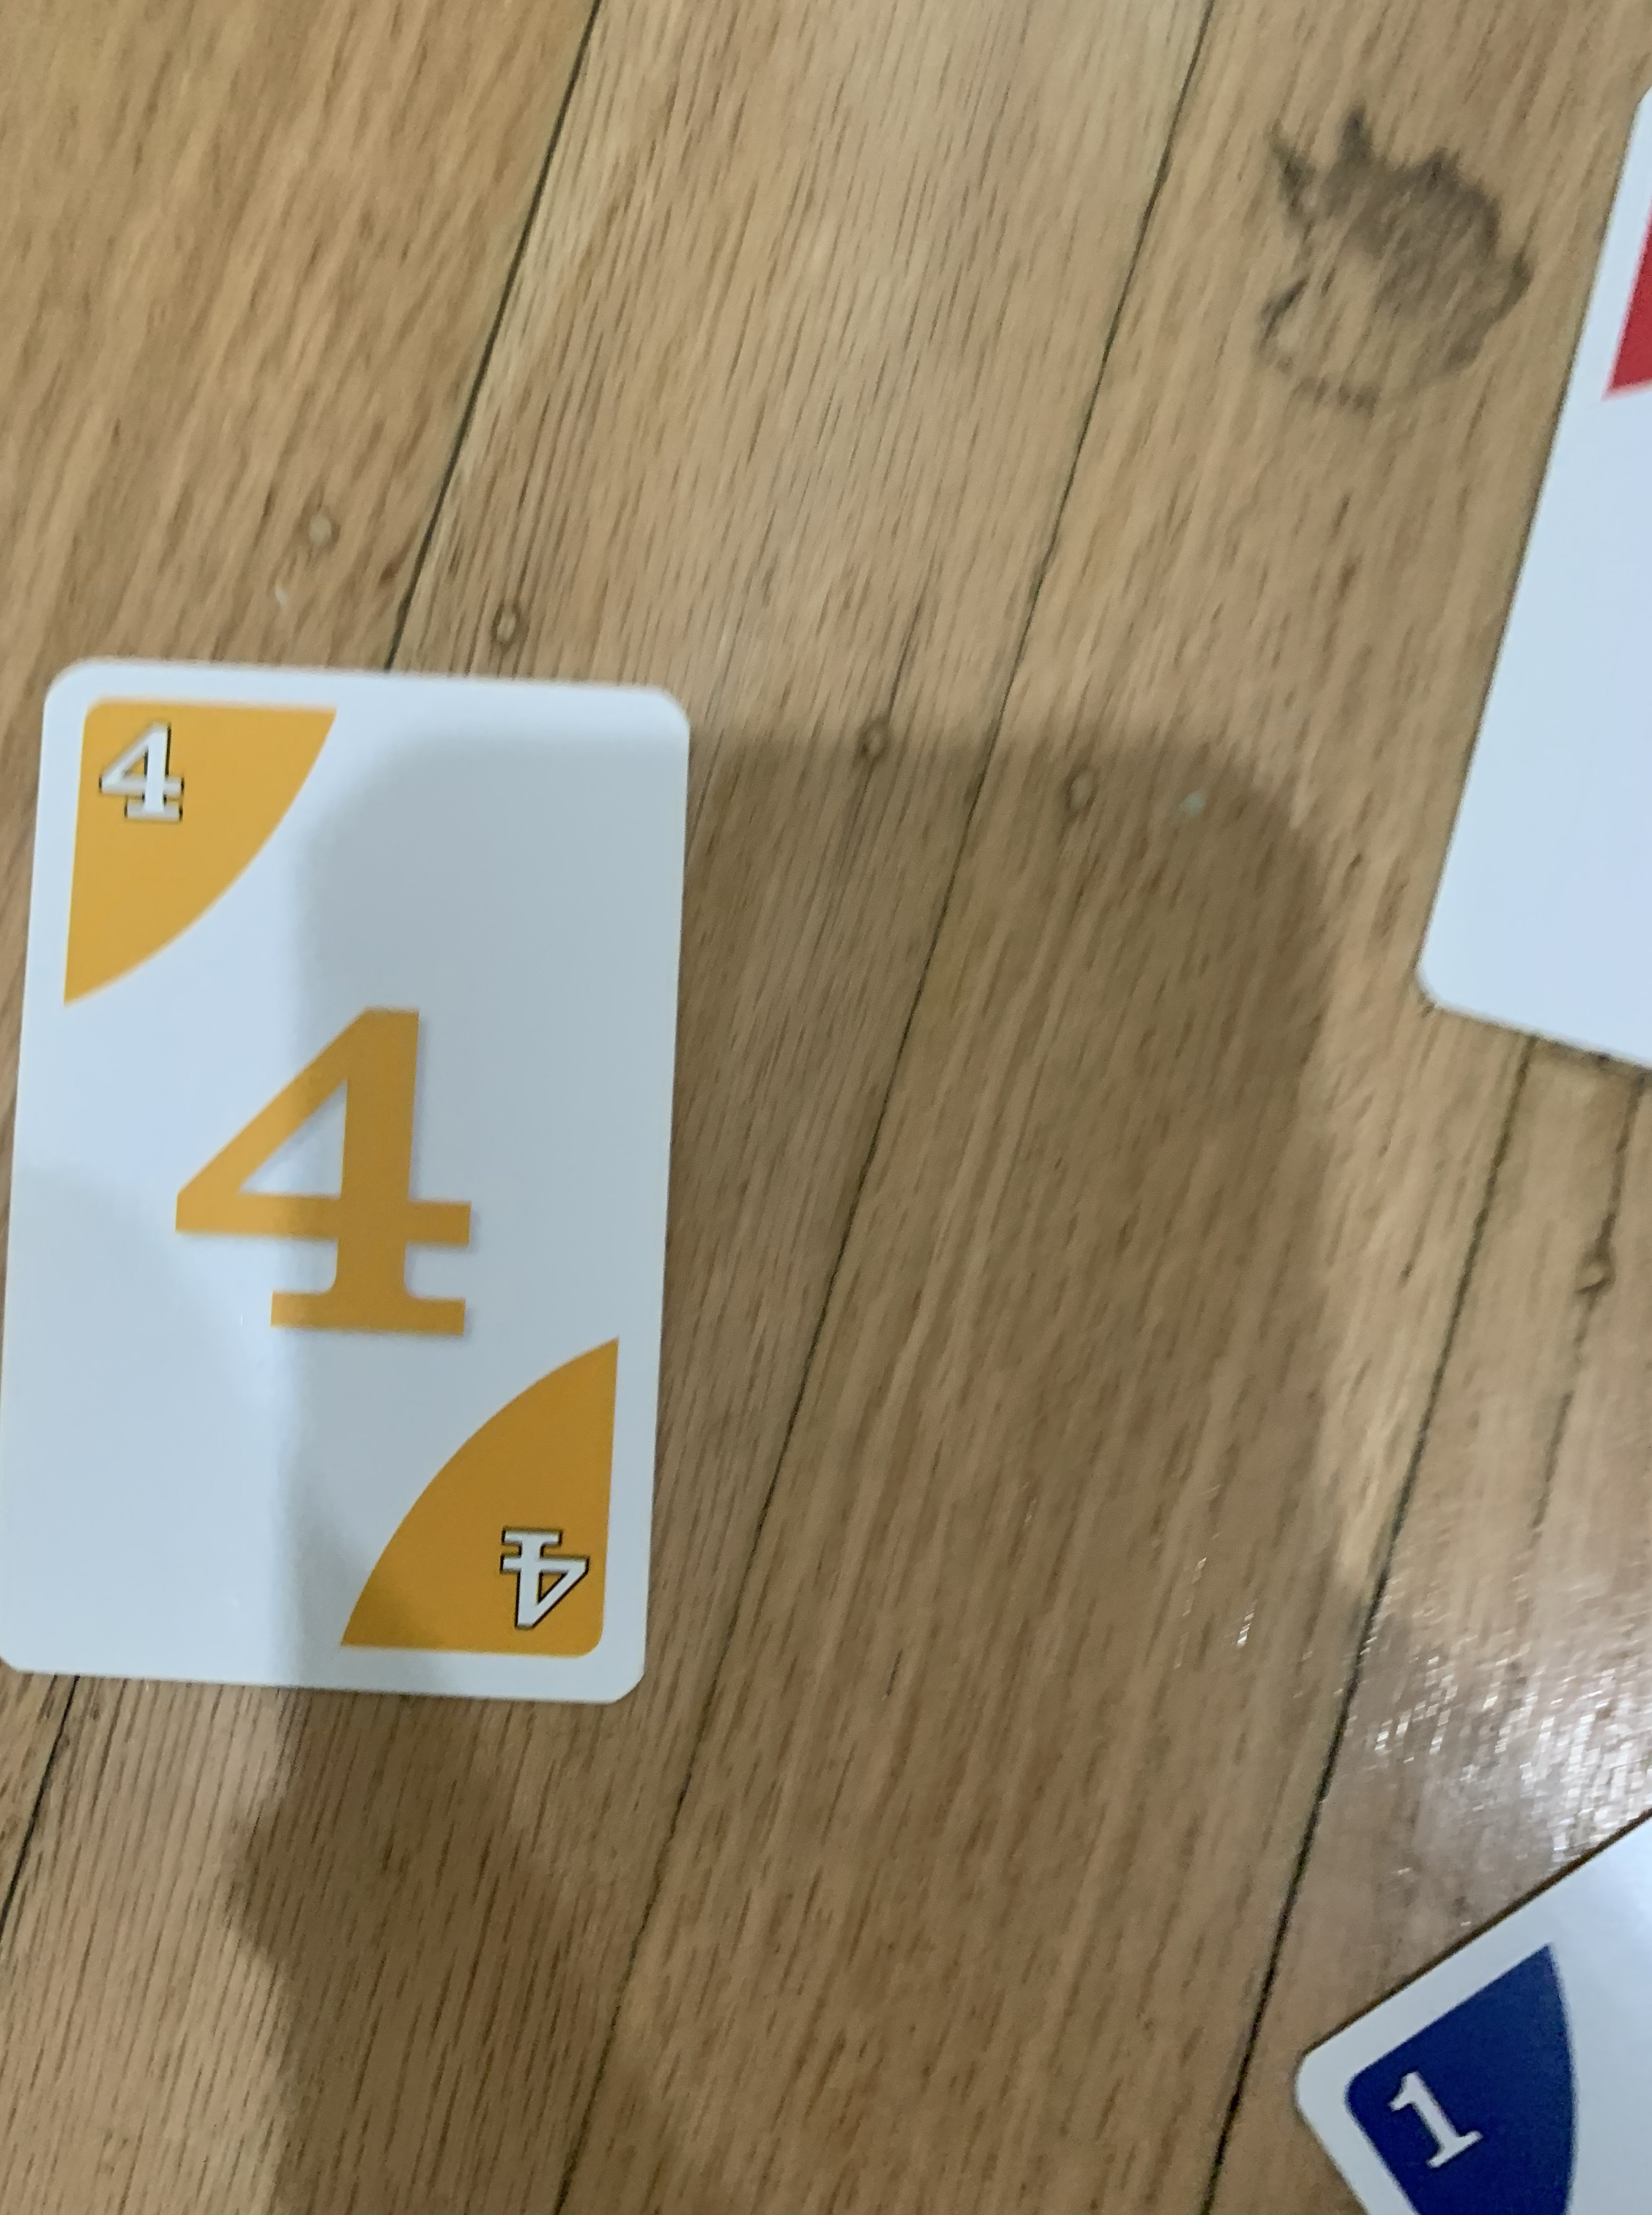four: (5, 646, 698, 1720)
